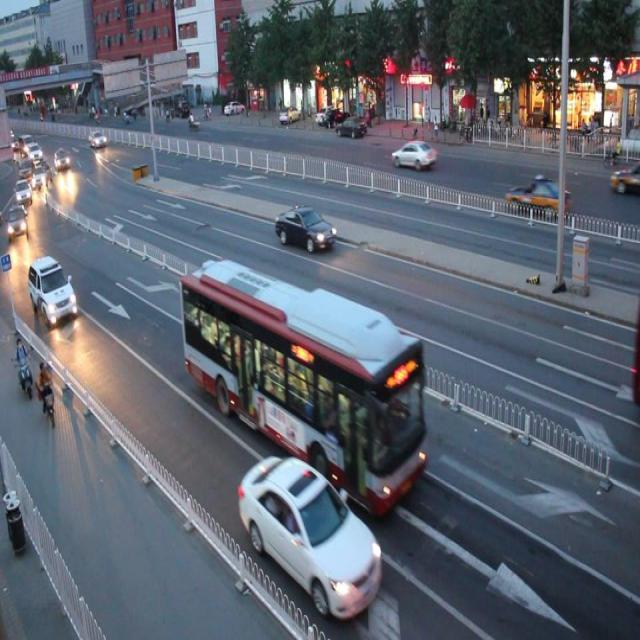car: (238, 455, 381, 618), (29, 256, 78, 326), (276, 204, 336, 256), (505, 175, 570, 220), (391, 134, 436, 172), (607, 160, 640, 193)
van: (180, 256, 427, 514)
